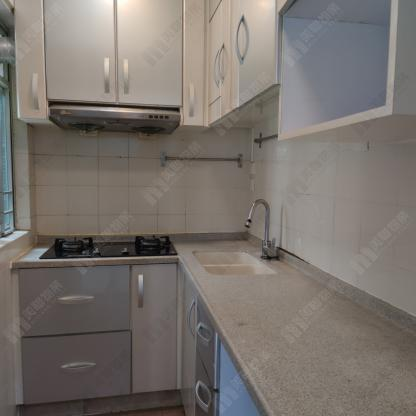Cupboard: (44, 0, 184, 106)
Exhaust Hood: (47, 100, 185, 142)
Faucet: (246, 193, 285, 257)
Sink: (175, 245, 322, 289)
Stove: (40, 222, 184, 270)
